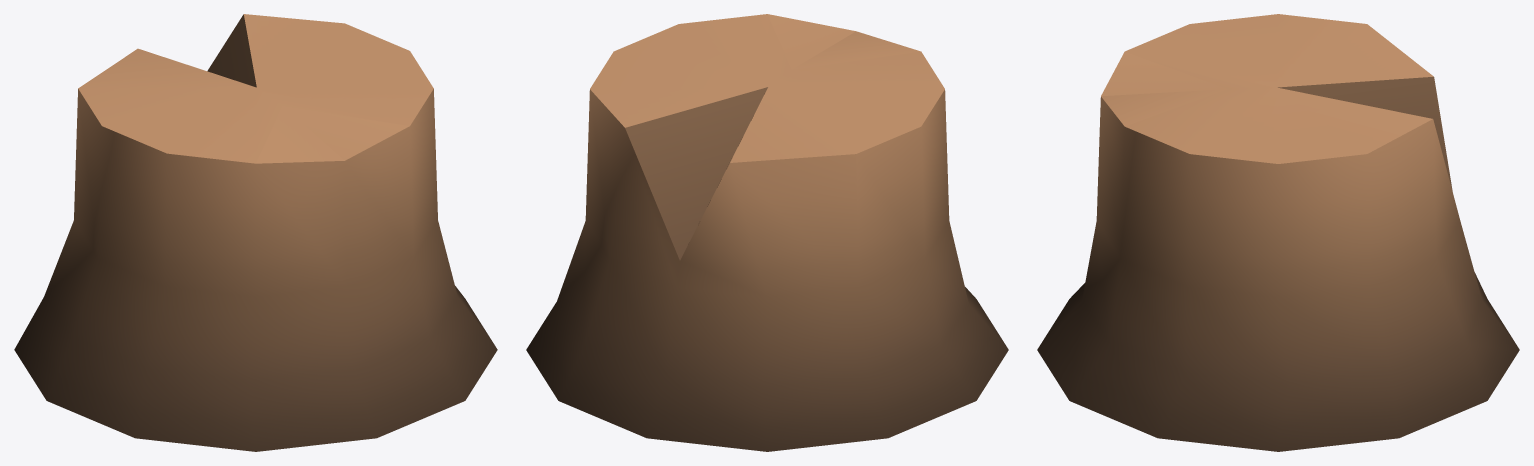
File: Stump.glb
The picture shows the model from 3 angles, left to right: view 1: azimuth 30°, elevation 25°; view 2: azimuth 150°, elevation 25°; view 3: azimuth 270°, elevation 25°; orthographic projection.
Visible parts, largest first — view 1: Stump; view 2: Stump; view 3: Stump.
Boxes of the visible parts, bbox=[...] form: Stump: bbox=[14, 14, 497, 451]; Stump: bbox=[526, 14, 1008, 451]; Stump: bbox=[1037, 14, 1519, 451].
Bounding box in the file's own units: 1.68 × 1.01 × 1.68.
1 material, 1 textured.
